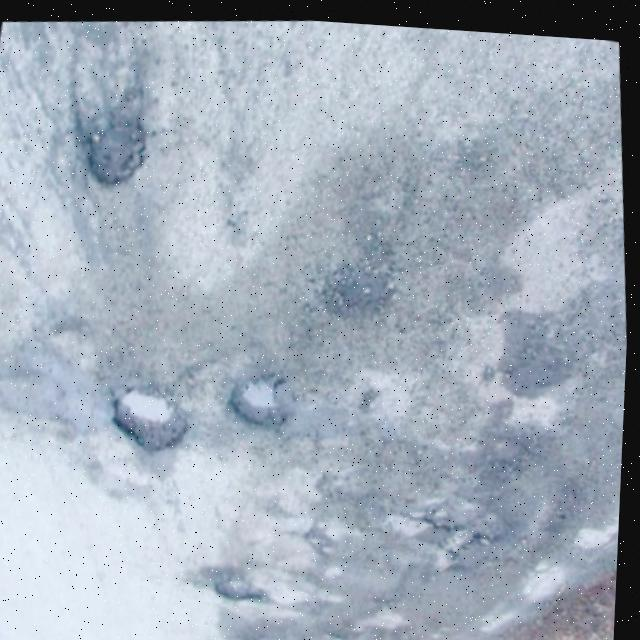Pothole: (74, 88, 163, 203), (100, 371, 205, 466), (413, 471, 521, 559), (323, 243, 417, 332), (217, 356, 304, 438), (364, 591, 423, 640), (216, 561, 269, 611), (431, 534, 476, 579), (245, 623, 297, 640), (114, 18, 141, 29)
